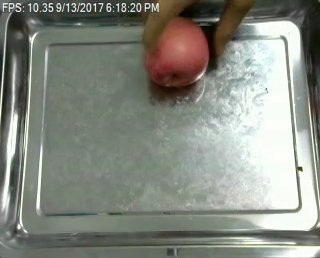Apple: (144, 8, 210, 93)
